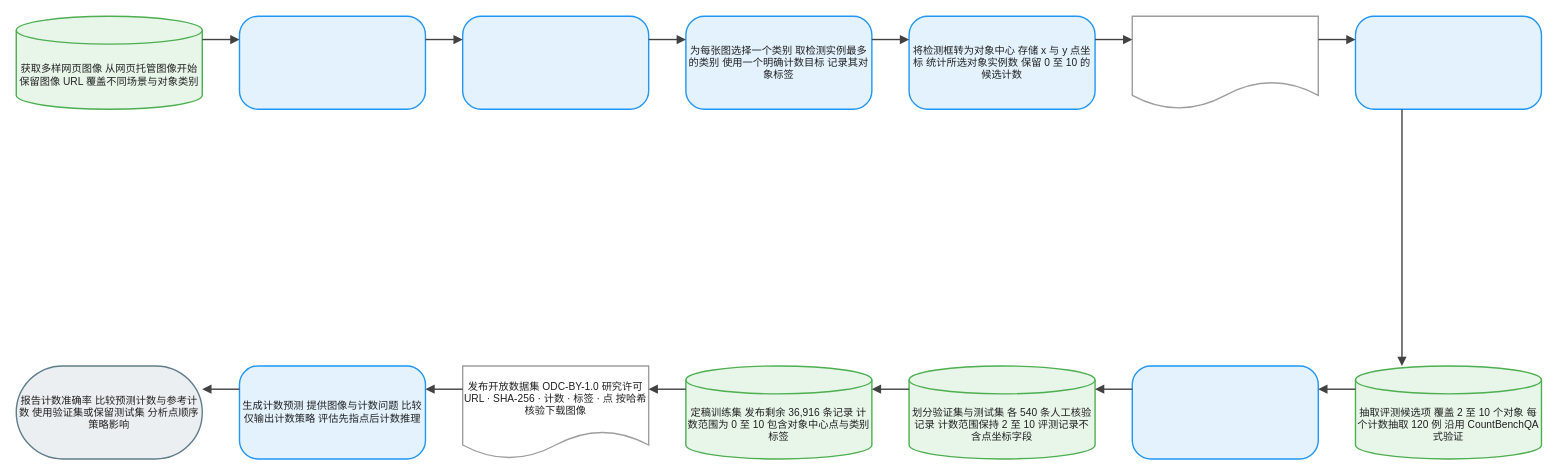
The diagram is 1559 pixels wide and 476 high, and some of its shapes have lost their labels. Here are the shapes that lost their labels. From the top down, the centre of each, then its label:
At (332,62): "运行 Detic 检测器 使用标准非 VLM 模型 检测候选对象实例 不使用 VLM 生成标注".
At (555,62): "应用严格置信度过滤 移除低置信度检测 提高自动标签精度 保留合格实例框".
At (1225,62): "形成计数问答对 图像与目标对象类别配对 以总数作为答案 保留中心点供训练监督".
At (1448,62): "过滤准确性与多样性 移除不可靠候选项 减少重复视觉样例 准备训练池与核验池".
At (1225,412): "人工核验评测样例 检查真实对象数量 剔除错误检测器标签 形成可信计数参考答案".
